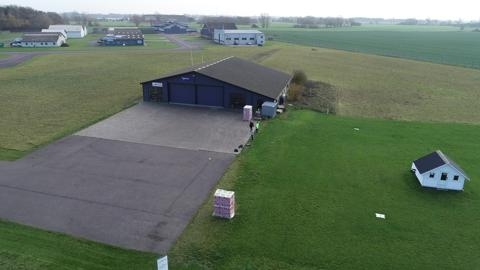RockwoolPallet: (213, 189, 236, 220)
